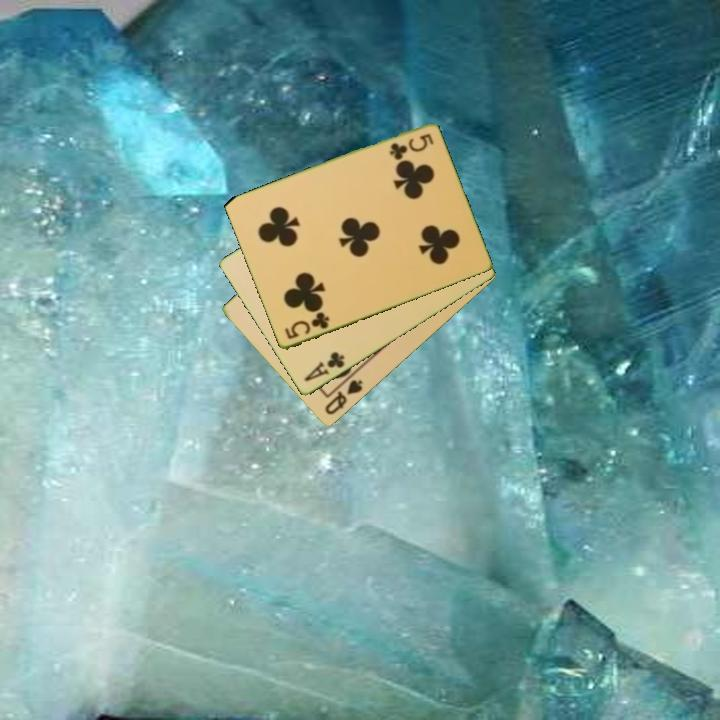5c: (281, 309, 332, 342), (386, 130, 436, 162)
Ac: (301, 348, 347, 385)
Qs: (321, 377, 366, 418)
